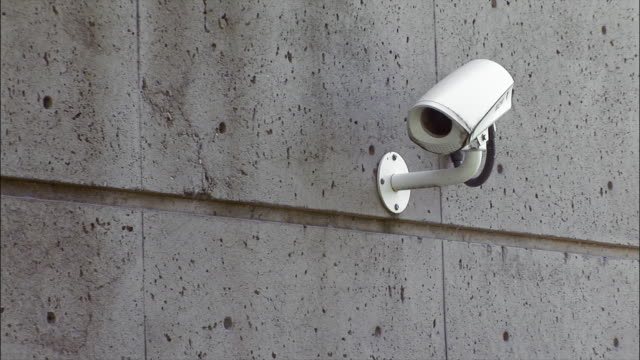CC Camera: (401, 50, 521, 158)
